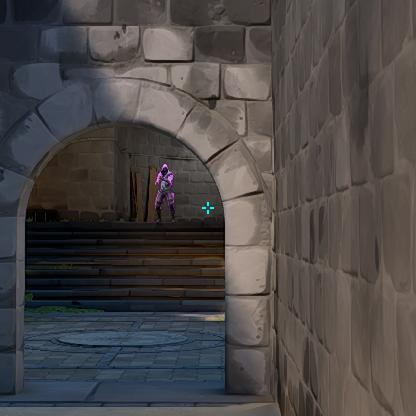enemyBody: (160, 175, 168, 190)
enemyHead: (163, 167, 167, 173)
